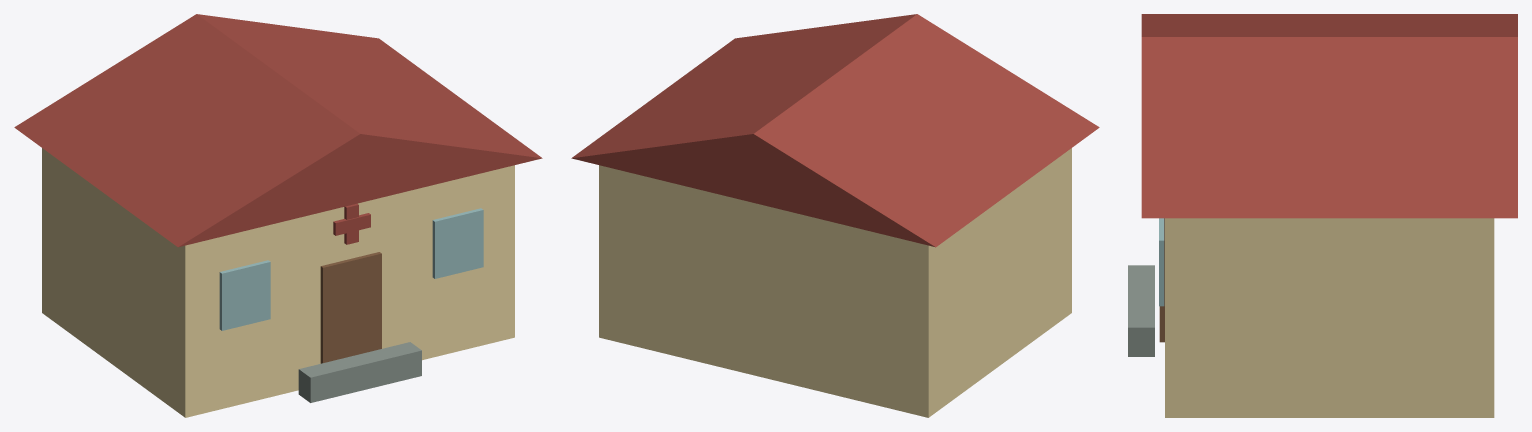
Rendered from bld_clinic.glb.
3 views of the same model, side by side, from view 1: azimuth 30°, elevation 25°; view 2: azimuth 150°, elevation 25°; view 3: azimuth 270°, elevation 25° (orthographic). The views are drawn at different scales.
Parts seen in each view (by area): view 1: bld_clinic; view 2: bld_clinic; view 3: bld_clinic.
Part boxes in pixels (box(x1,y1,x2,y2)): bld_clinic: box(14, 14, 542, 417); bld_clinic: box(571, 14, 1099, 417); bld_clinic: box(1128, 14, 1517, 417).
Size of the model in its own units: 3.6 by 2.37 by 2.9.
1 material, 1 textured.
